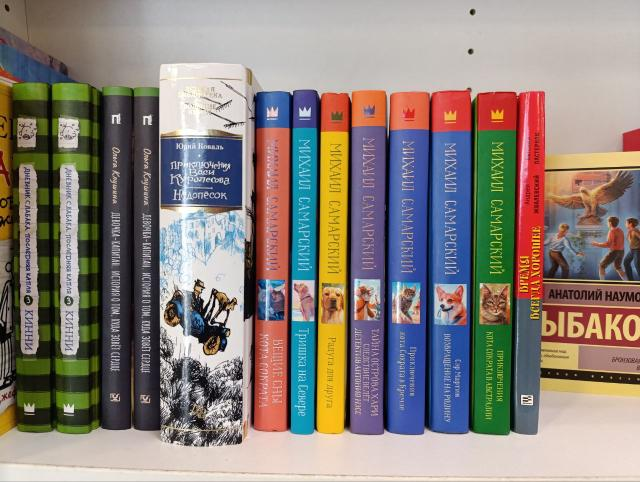book-s-spine: (158, 63, 247, 447), (473, 91, 517, 437), (387, 91, 430, 435), (12, 81, 54, 433), (430, 89, 472, 435), (52, 82, 93, 436), (349, 89, 387, 436), (253, 91, 291, 433), (316, 92, 350, 434), (101, 86, 134, 431), (514, 90, 546, 436), (290, 89, 318, 436), (133, 86, 161, 431)
